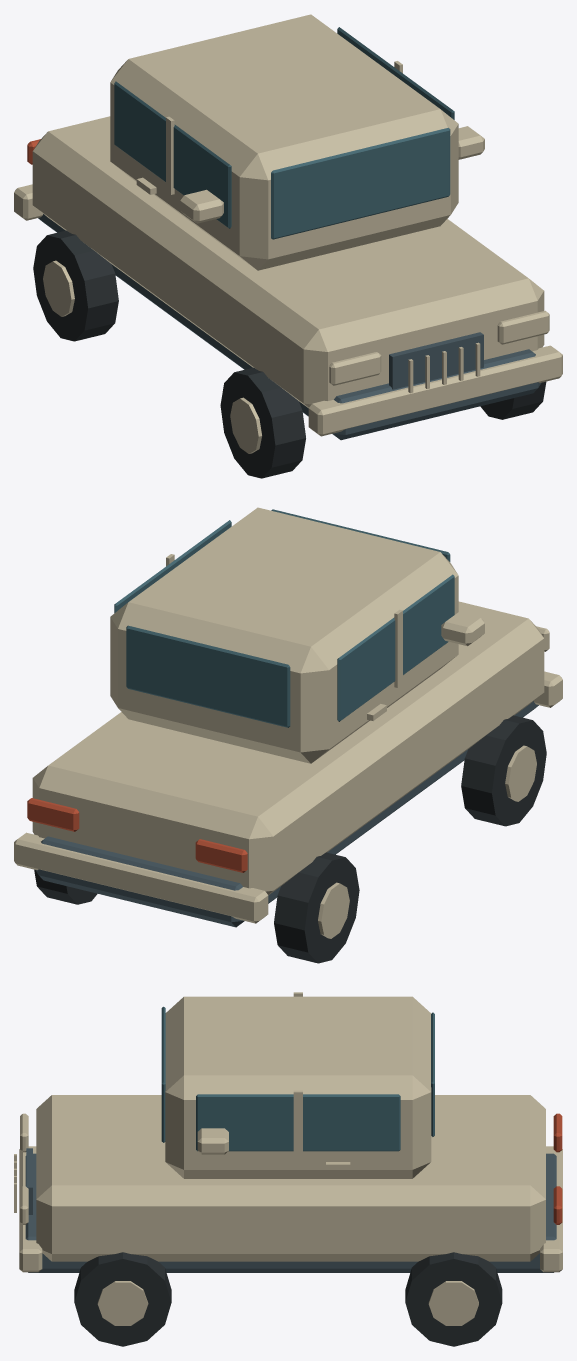
File: vehicle_hatch.glb
3 renders of one model, top to bottom at view 1: azimuth 30°, elevation 25°; view 2: azimuth 150°, elevation 25°; view 3: azimuth 270°, elevation 25°, orthographic. The views are drawn at different scales.
Parts seen in each view (by area): view 1: vehicle_hatch; view 2: vehicle_hatch; view 3: vehicle_hatch.
Boxes of the visible parts, x1=… form: vehicle_hatch: x1=14, y1=14, x2=562, y2=478; vehicle_hatch: x1=14, y1=507, x2=562, y2=963; vehicle_hatch: x1=14, y1=992, x2=562, y2=1346.
Bounding box in the file's own units: 2.09 × 1.95 × 3.85.
